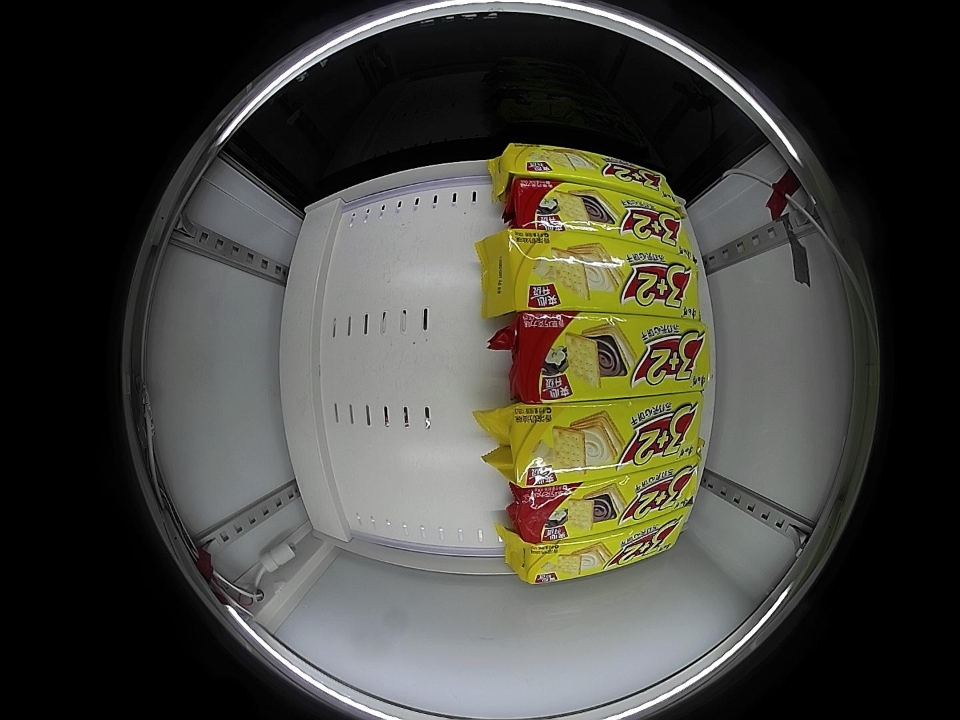3+2-2: (512, 398, 700, 486), (498, 235, 697, 315), (516, 515, 689, 583), (500, 143, 677, 203)
3jia2: (514, 315, 709, 398), (522, 464, 697, 542), (514, 183, 691, 252)
